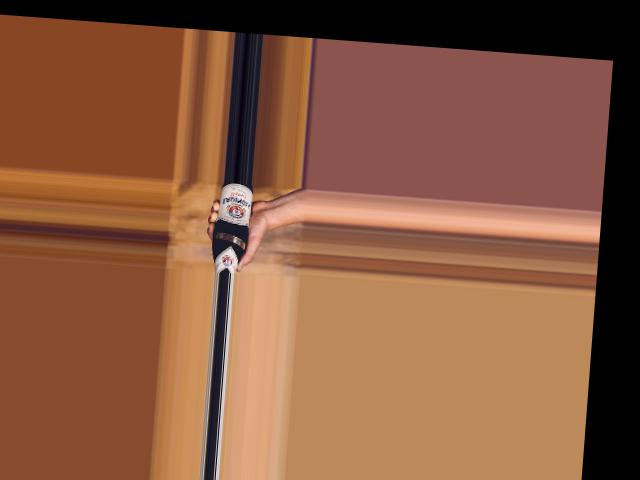beer: (210, 181, 254, 274)
